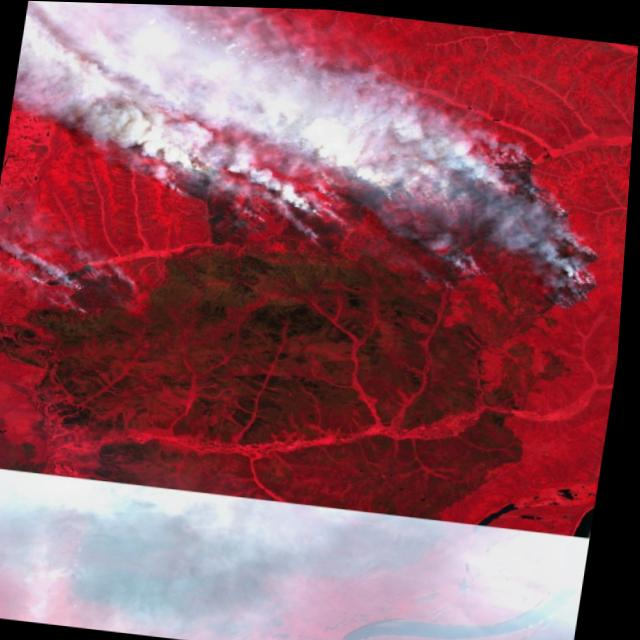fire: (147, 105, 623, 317), (31, 256, 147, 320)
